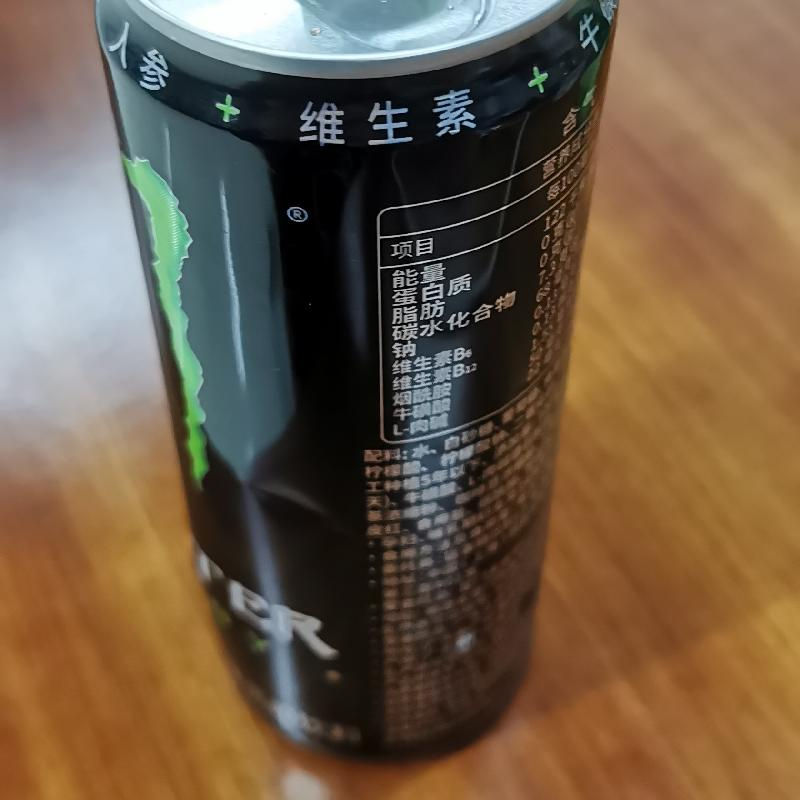cans: (89, 0, 640, 767)
